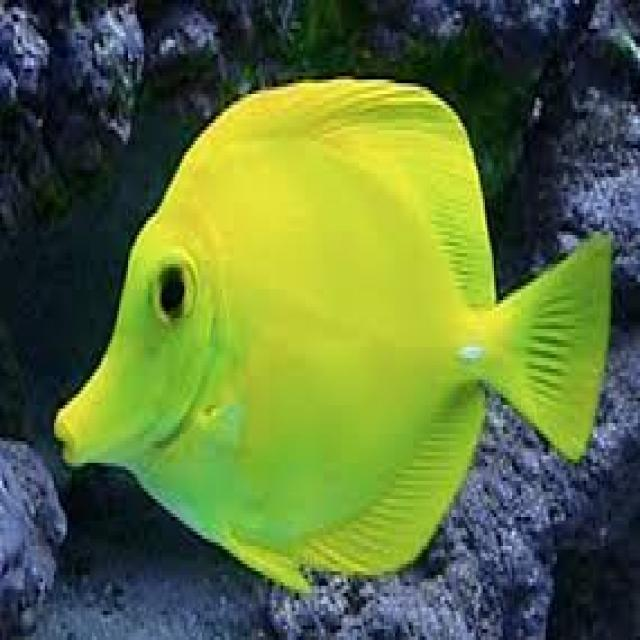TangFish: (48, 73, 613, 590)
